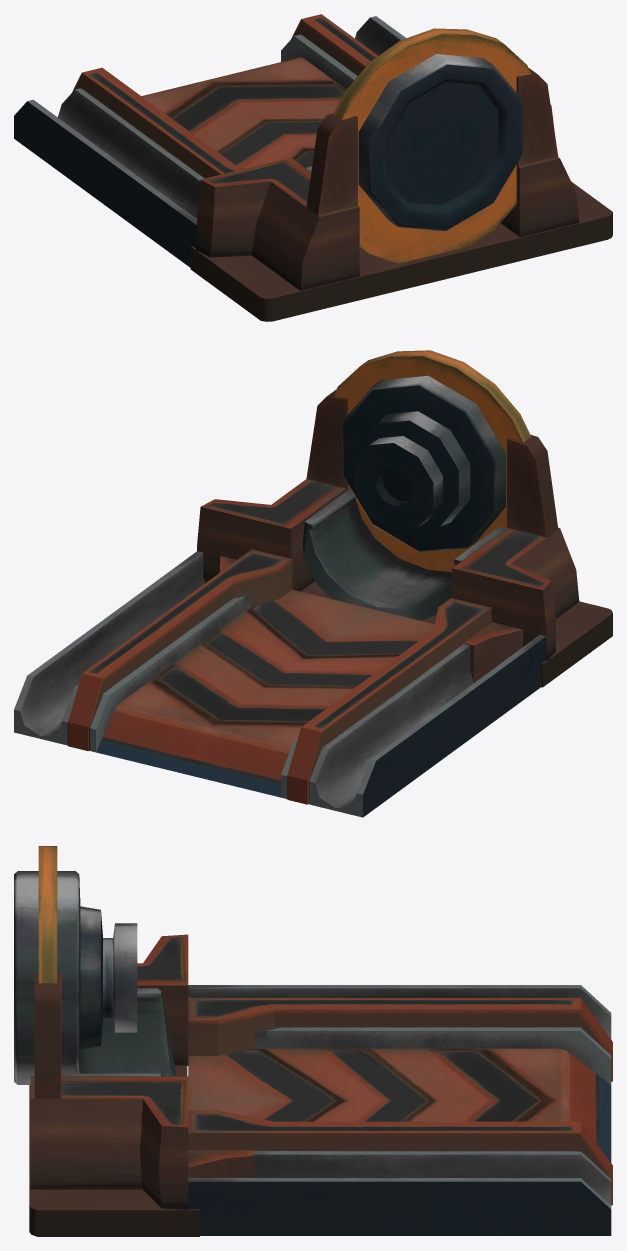
Rendered from S_trap_080_garage.fbx.
3 views of the same model, one above another, from view 1: azimuth 30°, elevation 25°; view 2: azimuth 150°, elevation 25°; view 3: azimuth 270°, elevation 25° (orthographic). The views are drawn at different scales.
Parts seen in each view (by area): view 1: S_trap_080_garage; view 2: S_trap_080_garage; view 3: S_trap_080_garage.
Boxes of the visible parts, <box> form: S_trap_080_garage: <box>14,14,612,321</box>; S_trap_080_garage: <box>14,350,612,817</box>; S_trap_080_garage: <box>14,846,612,1236</box>.
Bounding box in the file's own units: 0.9918 × 0.654 × 1.27.
1 material, 1 textured.
